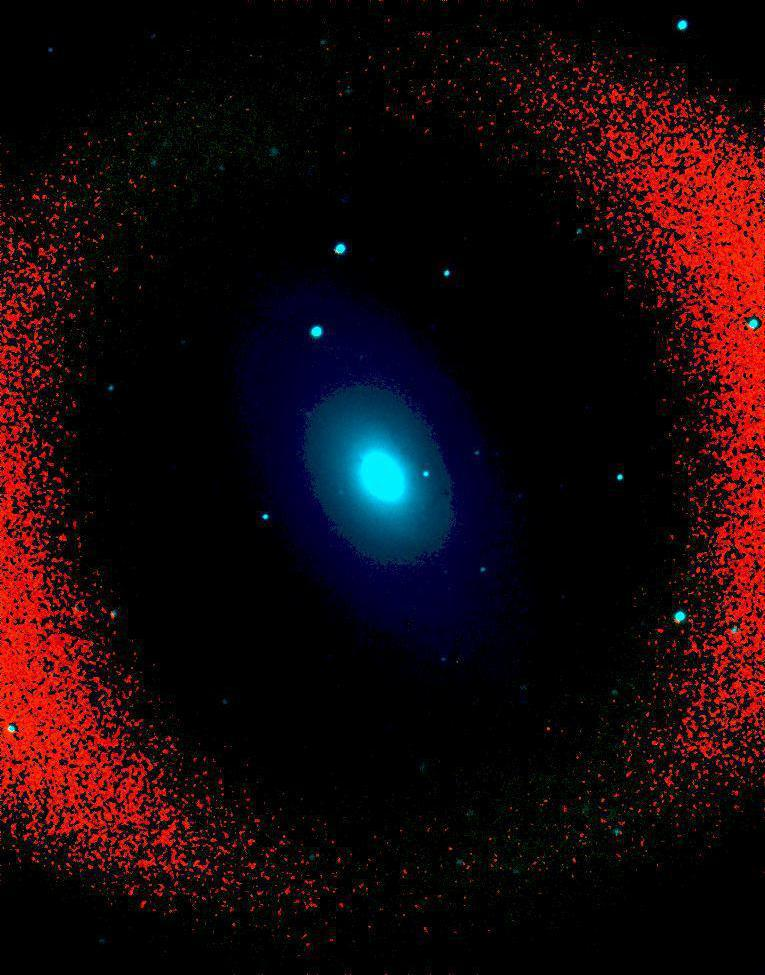star: (534, 716, 564, 746)
